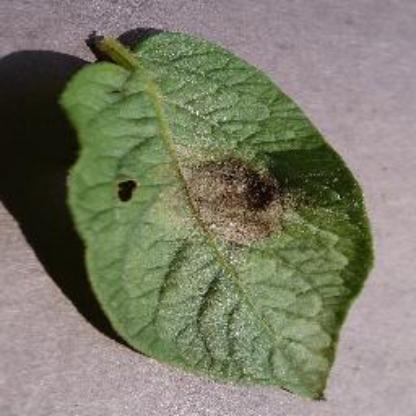Late-Blight: (55, 25, 375, 398)
